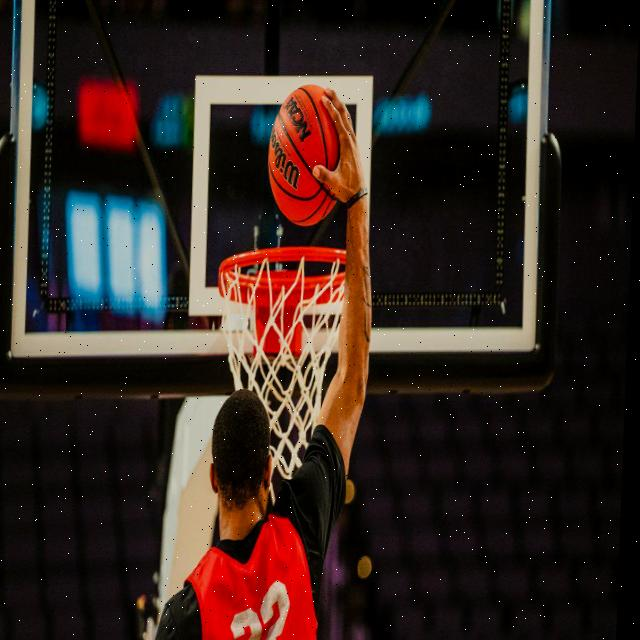basketball: (266, 86, 345, 226)
hoop: (210, 247, 348, 508)
